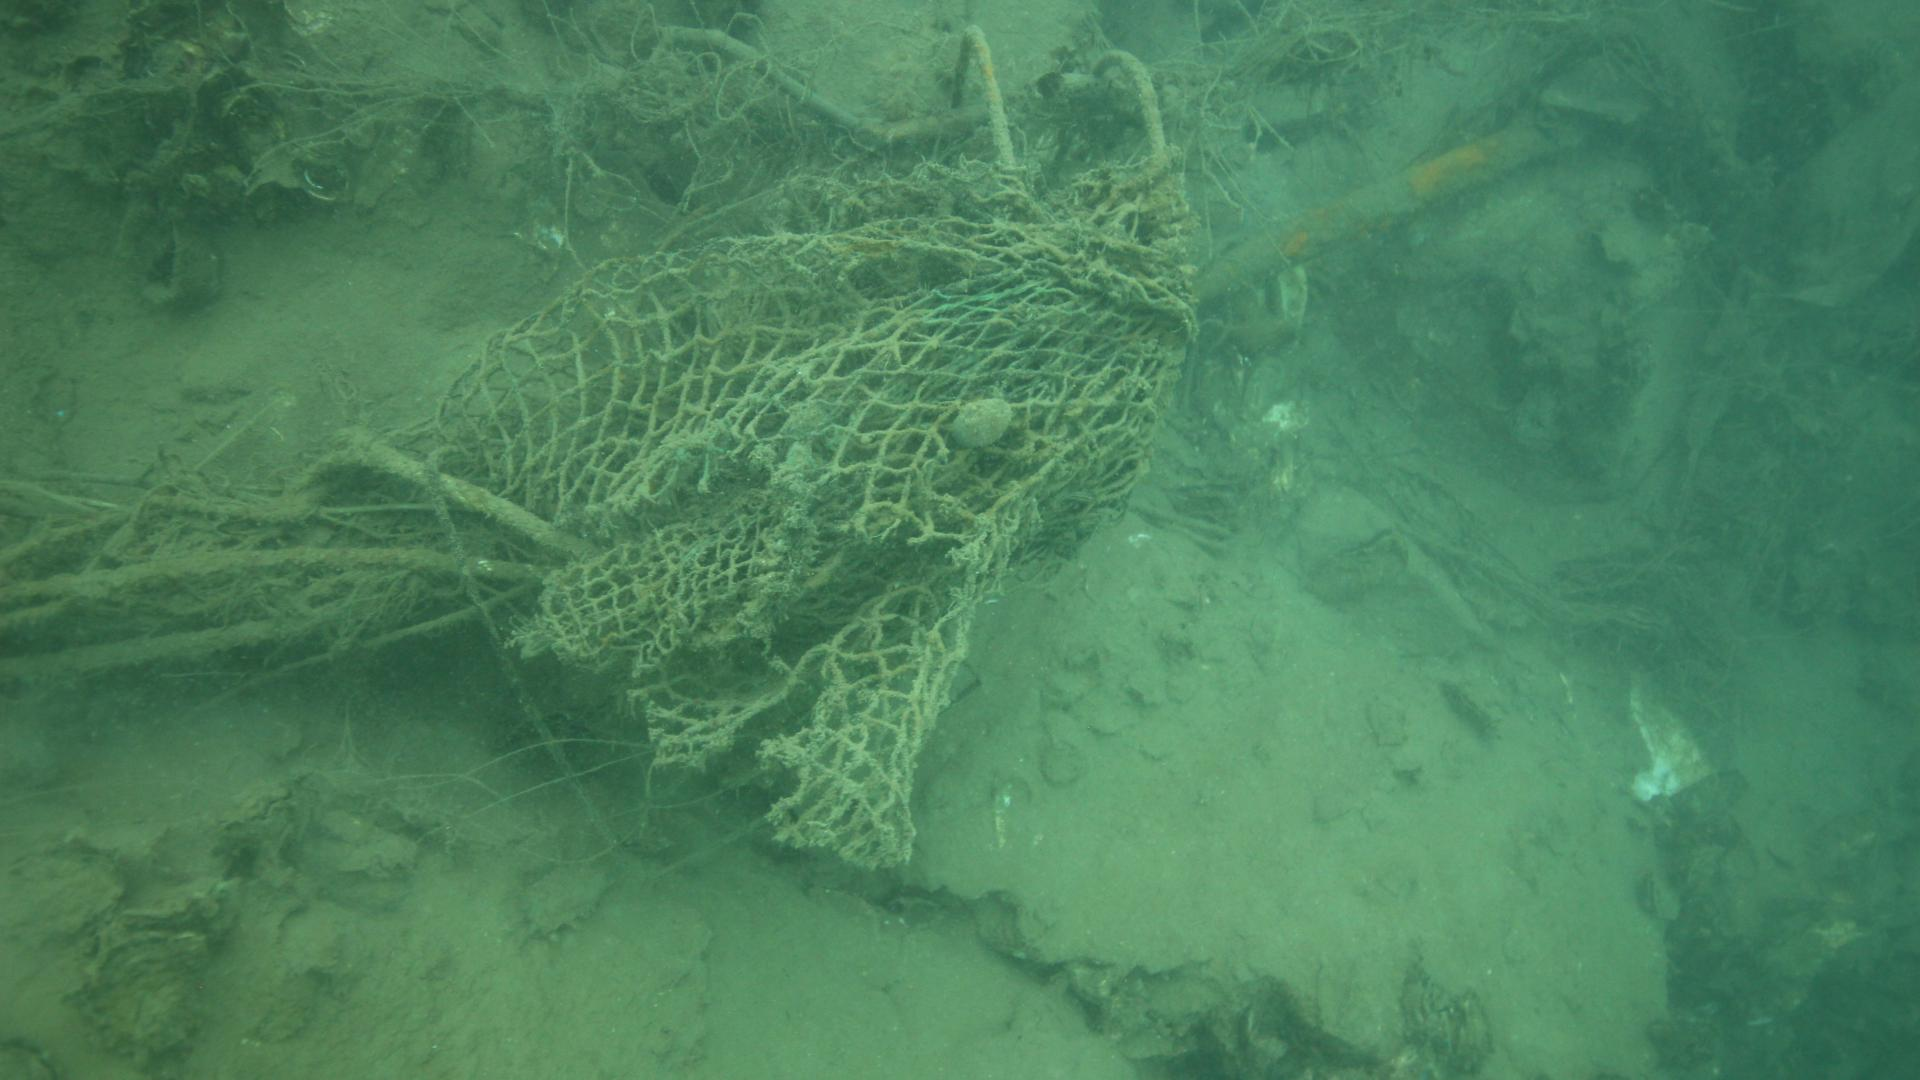fish net: (431, 214, 1200, 872)
